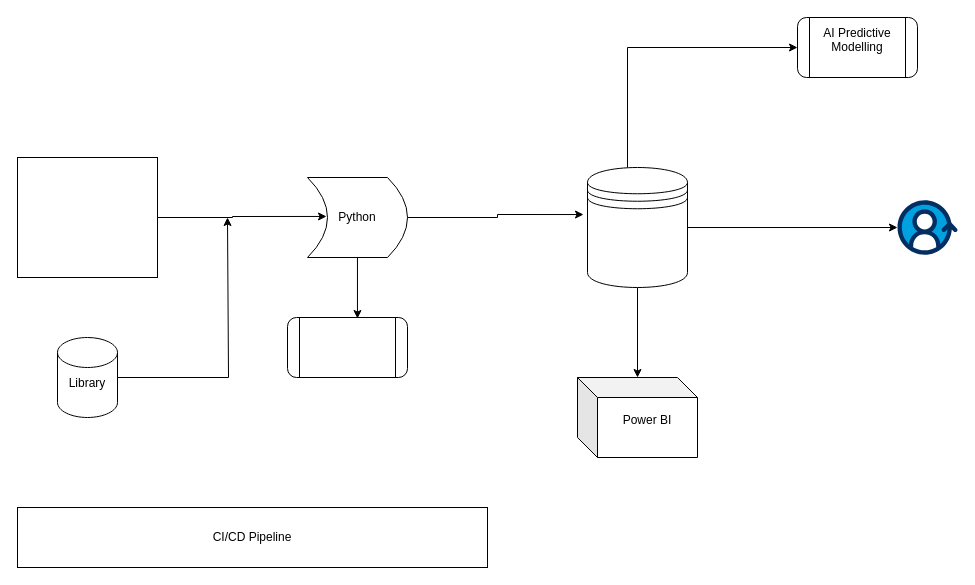
The diagram is 975 pixels wide and 585 high, and some of its shapes have lost their labels. Each missing label, with the centre of its shape:
Automated Testing: the point at 347,347
Cleaned Data: the point at 637,227
Excel/CSV Files: the point at 87,217
